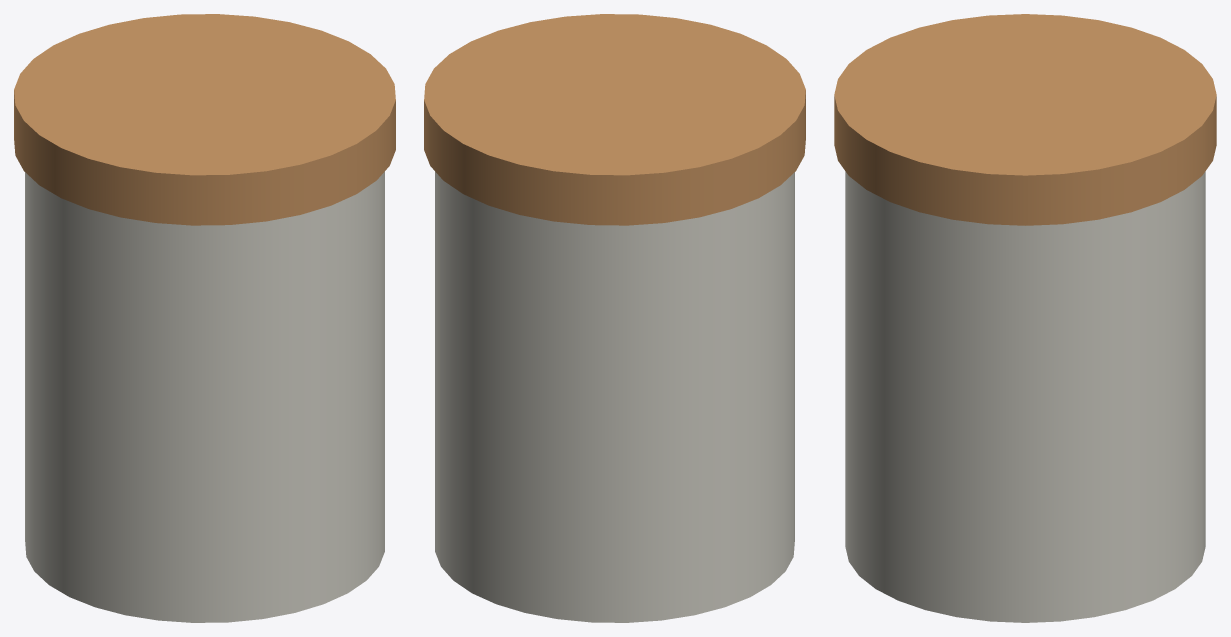
The model's file is kitchen-pantry-jar-03.gltf.
3 views of the same model, side by side, from view 1: azimuth 30°, elevation 25°; view 2: azimuth 150°, elevation 25°; view 3: azimuth 270°, elevation 25° (orthographic).
Parts seen in each view (by area): view 1: Pantry ceramic storage jar, Pantry jar timber lid; view 2: Pantry ceramic storage jar, Pantry jar timber lid; view 3: Pantry ceramic storage jar, Pantry jar timber lid.
Boxes of the visible parts, x1=… form: Pantry ceramic storage jar: x1=25, y1=171, x2=384, y2=622; Pantry jar timber lid: x1=14, y1=14, x2=395, y2=225; Pantry ceramic storage jar: x1=435, y1=171, x2=794, y2=622; Pantry jar timber lid: x1=424, y1=14, x2=805, y2=225; Pantry ceramic storage jar: x1=845, y1=171, x2=1205, y2=622; Pantry jar timber lid: x1=834, y1=14, x2=1216, y2=225.
Bounding box in the file's own units: 0.138 × 0.18 × 0.138.
